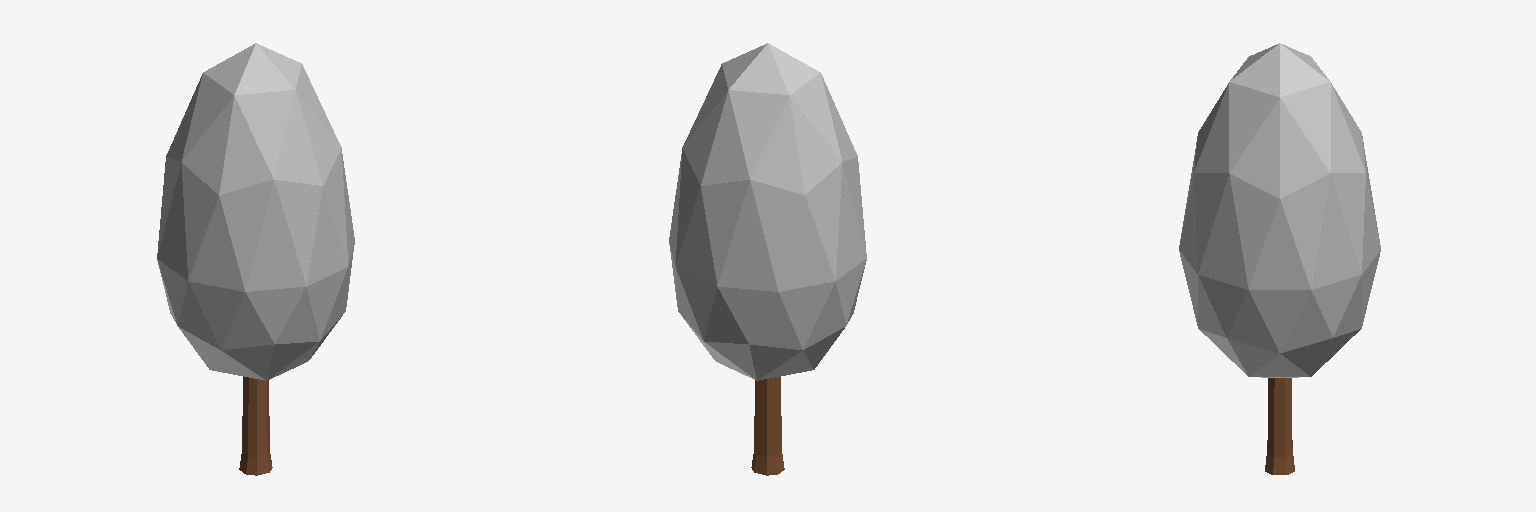
File: Tree_Cedar_1.obj
3 views of the same model, side by side, from view 1: azimuth 30°, elevation 25°; view 2: azimuth 150°, elevation 25°; view 3: azimuth 270°, elevation 25° (orthographic).
Parts seen in each view (by area): view 1: Icosphere.036_Icosphere.141, Cube.086_Cube.284; view 2: Icosphere.036_Icosphere.141, Cube.086_Cube.284; view 3: Icosphere.036_Icosphere.141, Cube.086_Cube.284.
Boxes of the visible parts, <box> form: Icosphere.036_Icosphere.141: <box>157,43,354,380</box>; Cube.086_Cube.284: <box>239,376,272,475</box>; Icosphere.036_Icosphere.141: <box>669,43,866,380</box>; Cube.086_Cube.284: <box>751,376,784,475</box>; Icosphere.036_Icosphere.141: <box>1179,43,1380,377</box>; Cube.086_Cube.284: <box>1265,378,1294,474</box>.
Bounding box in the file's own units: 1.49 × 3.63 × 1.56.